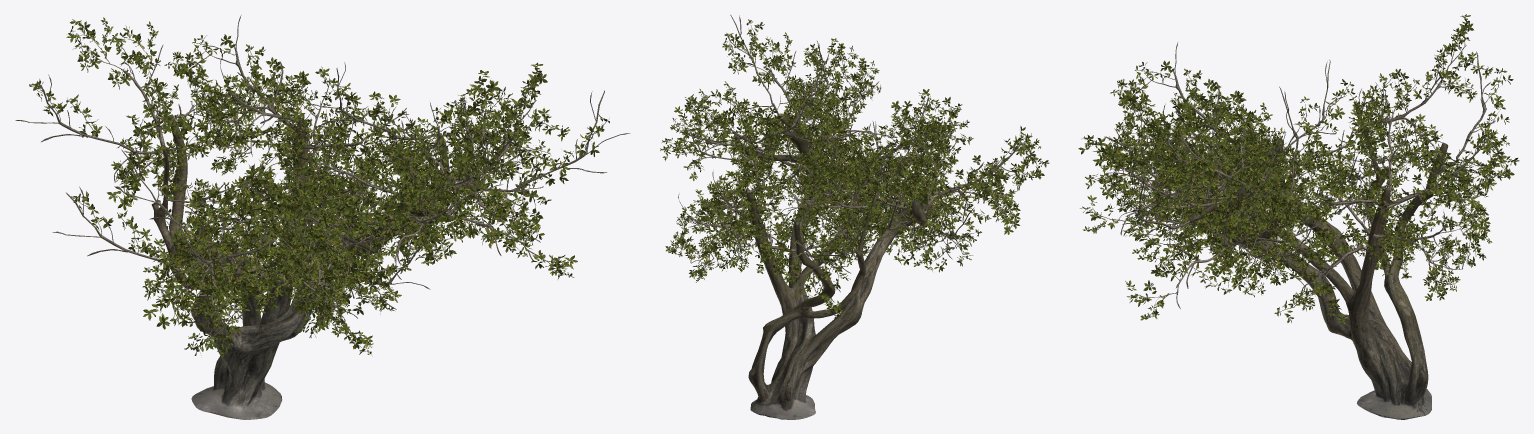
The model's file is tree_real.glb.
3 views of the same model, side by side, from view 1: azimuth 30°, elevation 25°; view 2: azimuth 150°, elevation 25°; view 3: azimuth 270°, elevation 25° (orthographic). The views are drawn at different scales.
Parts seen in each view (by area): view 1: island_tree_02_LOD0; view 2: island_tree_02_LOD0; view 3: island_tree_02_LOD0.
Boxes of the visible parts, box(x1,y1,x2,y2) form: island_tree_02_LOD0: box(15, 15, 630, 419); island_tree_02_LOD0: box(660, 14, 1049, 419); island_tree_02_LOD0: box(1078, 14, 1519, 419).
Size of the model in its own units: 4.21 by 3.41 by 4.07.
3 materials, 3 textured.
